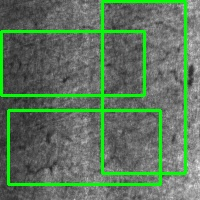crazing: (102, 1, 185, 173), (8, 110, 160, 184), (1, 31, 144, 95)
